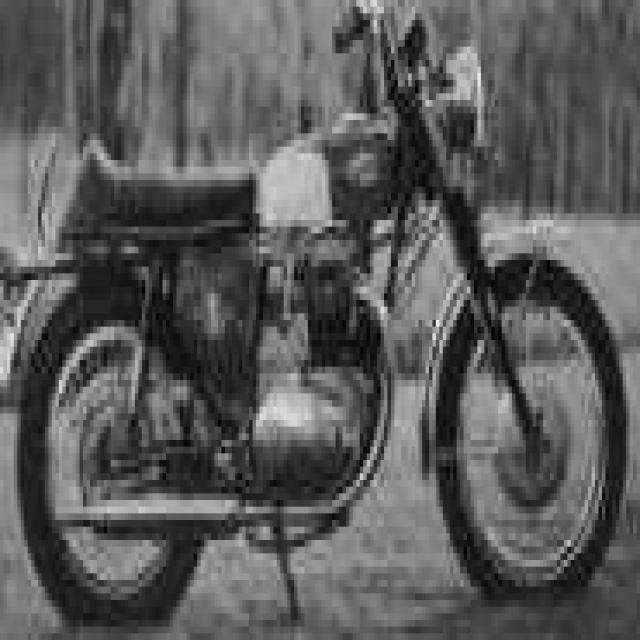Motorcycle: (19, 7, 625, 630)
